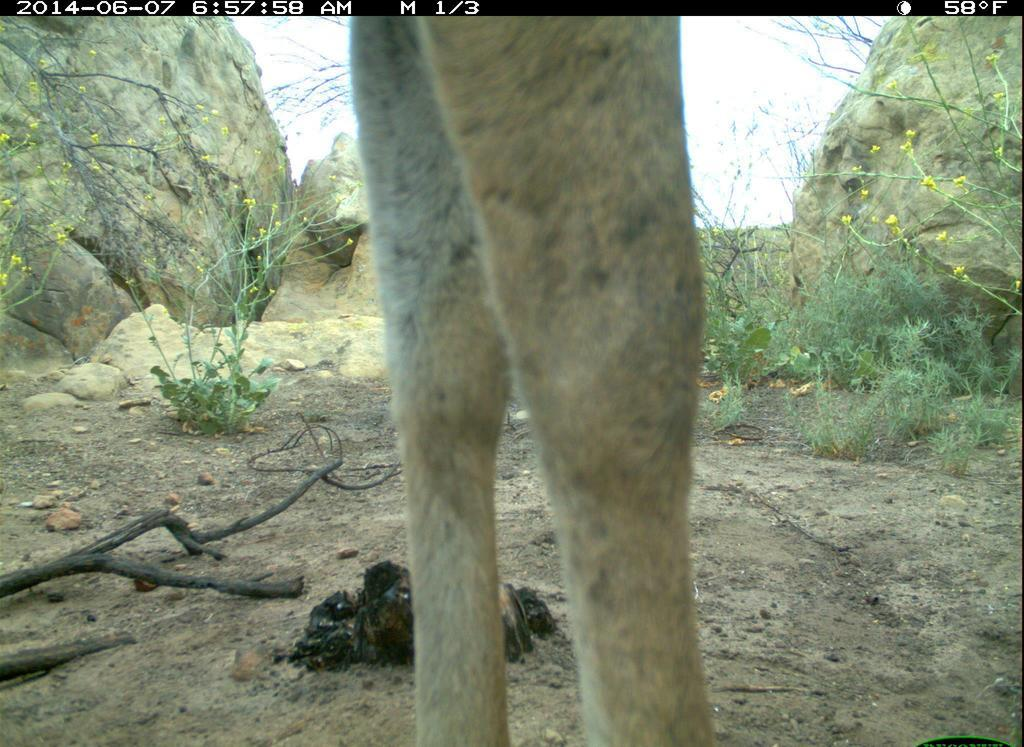deer: (338, 8, 726, 747)
